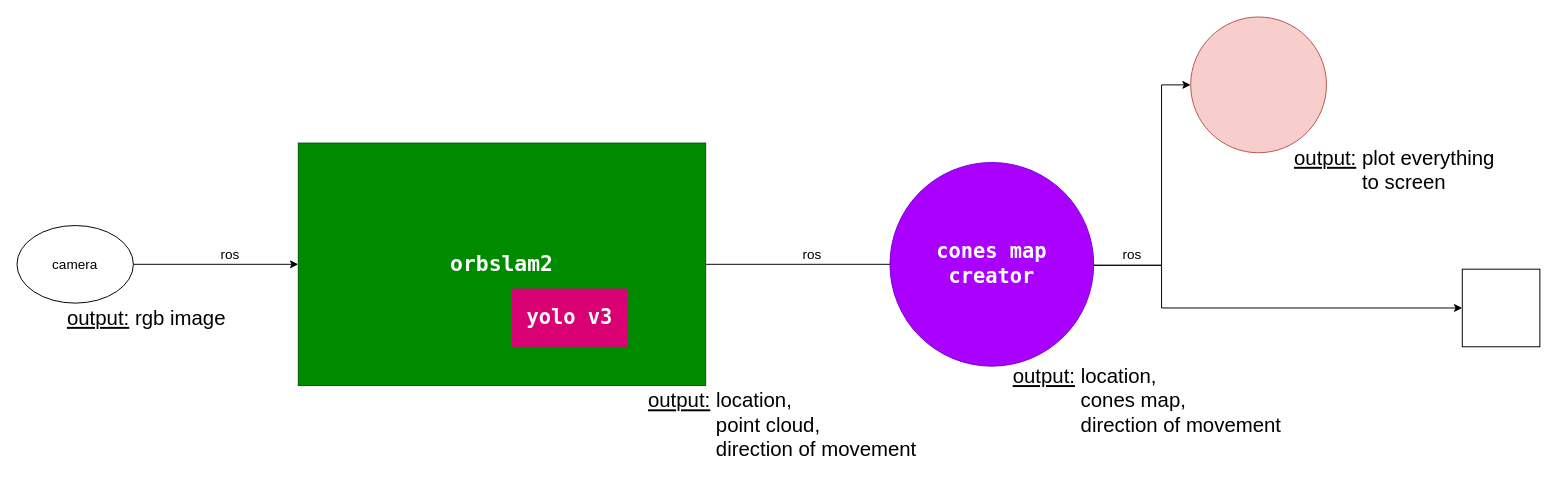
The diagram is 1557 pixels wide and 479 high, and some of its shapes have lost their labels. Each missing label, with the centre of its shape:
"debug unit" goes at [1258,84].
"next team" goes at [1500,307].
